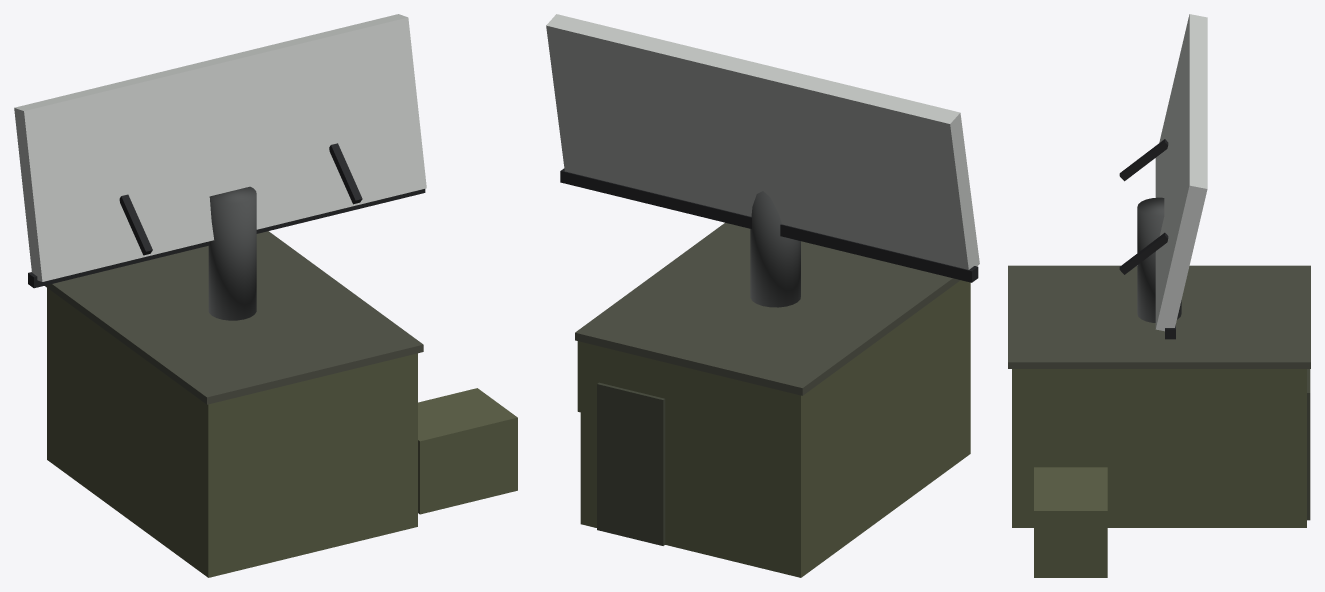
Rendered from Radar.fbx.
The picture shows the model from 3 angles, left to right: view 1: azimuth 30°, elevation 25°; view 2: azimuth 150°, elevation 25°; view 3: azimuth 270°, elevation 25°; orthographic projection. The views are drawn at different scales.
Visible parts, largest first — view 1: Array, Shelter, ShelterRoof, Generator, Pedestal, ArrayFrame, Strut-1, Strut1; view 2: Array, Shelter, ShelterRoof, Door, ArrayFrame, Pedestal; view 3: Shelter, ShelterRoof, Array, Generator, Pedestal, Door, Strut-1, Strut1.
Boxes of the visible parts, <box> form: Array: <box>14,14,426,281</box>; Shelter: <box>47,288,417,577</box>; ShelterRoof: <box>44,231,423,404</box>; Generator: <box>418,388,517,514</box>; Pedestal: <box>208,186,256,320</box>; ArrayFrame: <box>28,189,425,288</box>; Strut-1: <box>119,194,152,255</box>; Strut1: <box>329,143,362,204</box>; Array: <box>546,14,979,269</box>; Shelter: <box>580,280,970,577</box>; ShelterRoof: <box>575,222,960,395</box>; Door: <box>597,382,665,545</box>; ArrayFrame: <box>560,168,978,282</box>; Pedestal: <box>750,191,800,307</box>; Shelter: <box>1012,369,1306,527</box>; ShelterRoof: <box>1008,265,1310,368</box>; Array: <box>1155,14,1207,331</box>; Generator: <box>1034,467,1107,577</box>; Pedestal: <box>1137,197,1181,322</box>; Door: <box>1307,369,1310,520</box>; Strut-1: <box>1119,139,1168,181</box>; Strut1: <box>1119,232,1168,274</box>.
Size of the model in its own units: 590 by 410 by 570.
